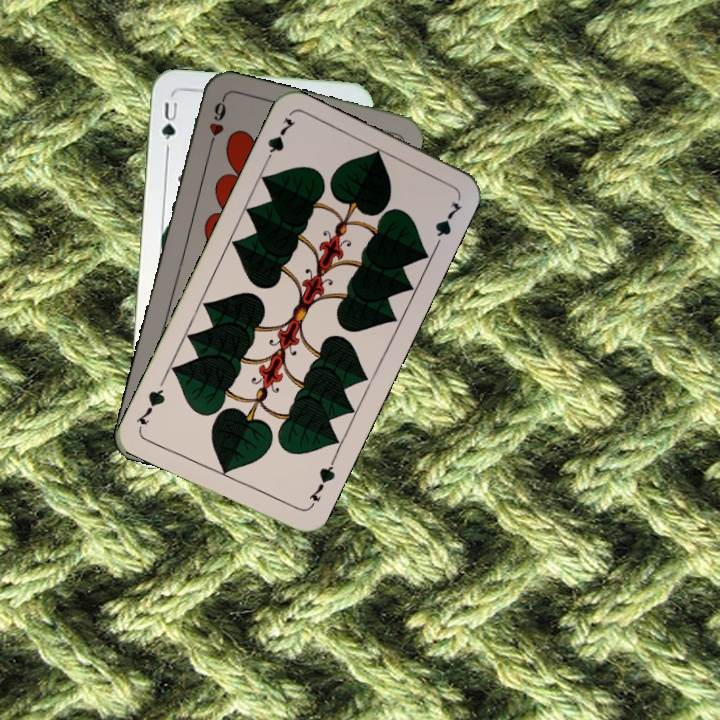G7: (260, 113, 299, 168), (304, 456, 338, 511)
GU: (157, 98, 180, 153)
H9: (204, 95, 229, 153)
